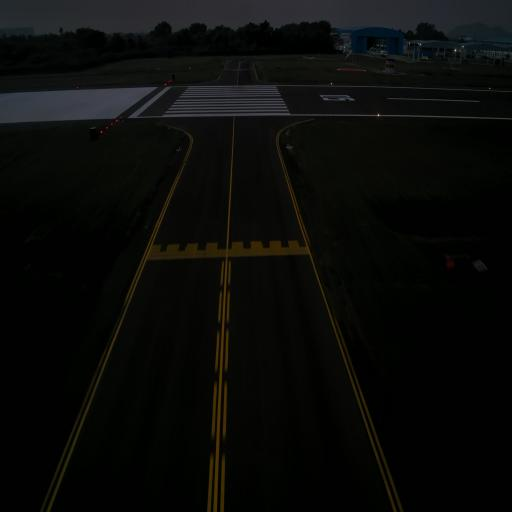on: (377, 111, 380, 118), (100, 128, 103, 134), (106, 125, 108, 131), (111, 122, 113, 127), (116, 118, 118, 123), (120, 116, 122, 119)
